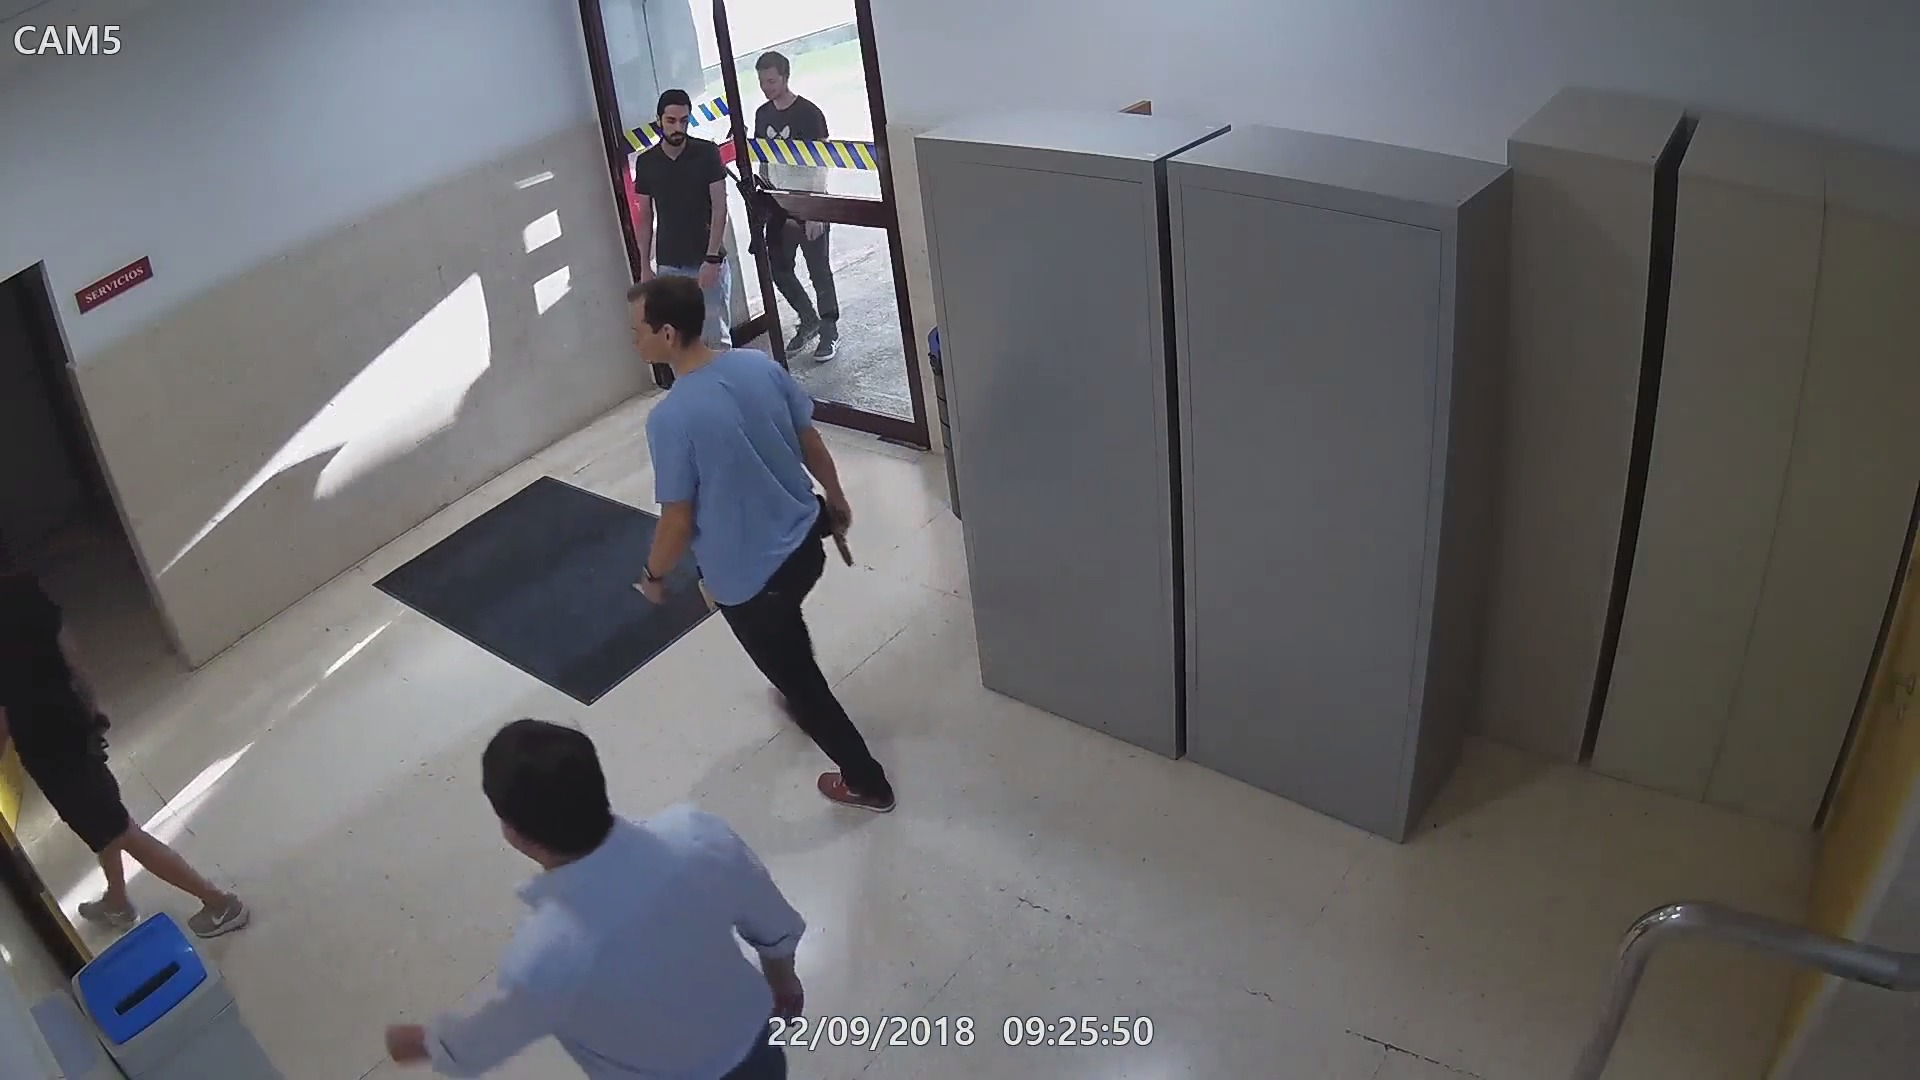Handgun: (818, 495, 860, 571), (84, 705, 115, 770)
Knife: (632, 568, 676, 613)
